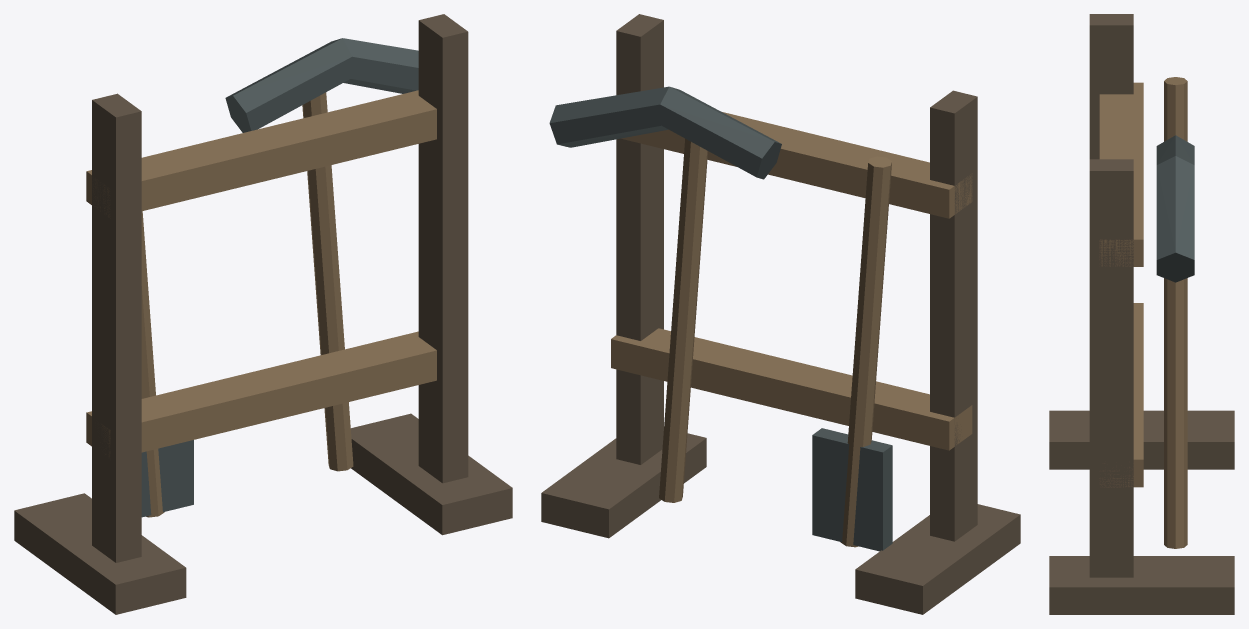
The model's file is DG_Rack_MinerTools.fbx.
3 views of the same model, side by side, from view 1: azimuth 30°, elevation 25°; view 2: azimuth 150°, elevation 25°; view 3: azimuth 270°, elevation 25° (orthographic). The views are drawn at different scales.
Parts seen in each view (by area): view 1: DG_Rack_MinerTools; view 2: DG_Rack_MinerTools; view 3: DG_Rack_MinerTools.
Boxes of the visible parts, <box> form: DG_Rack_MinerTools: <box>14,14,512,614</box>; DG_Rack_MinerTools: <box>541,14,1020,614</box>; DG_Rack_MinerTools: <box>1049,14,1234,614</box>.
Bounding box in the file's own units: 1.29 × 1.42 × 0.55.
